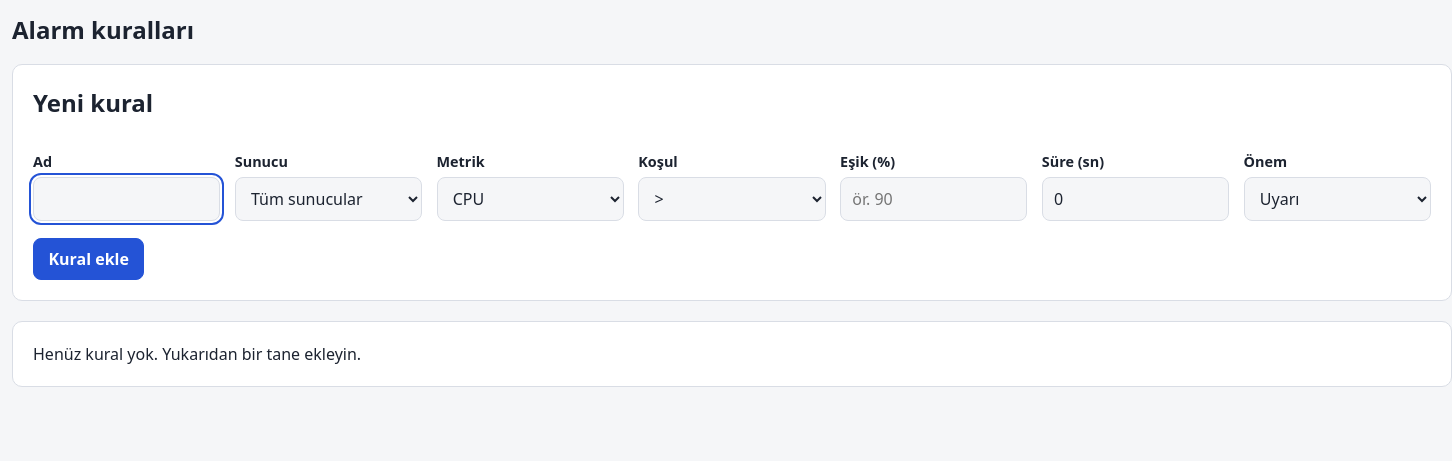
Scenario: RulesPage › form: yalnızca eşik boş bırakılırsa (diğer alanlar dolu) hata görünür ve İSTEK GÖNDERİLMEZ; tablo "Henüz kural yok" kalır (bildirilen sessiz başarısızlık senary
Check: the text "Henüz kural yok. Yukarıdan bir tane ekleyin." is shown, box [12,321,1451,387]
Step 1. Type "Test alarmı" into the field labelled "Ad" → (127, 199), box [33,177,220,220]
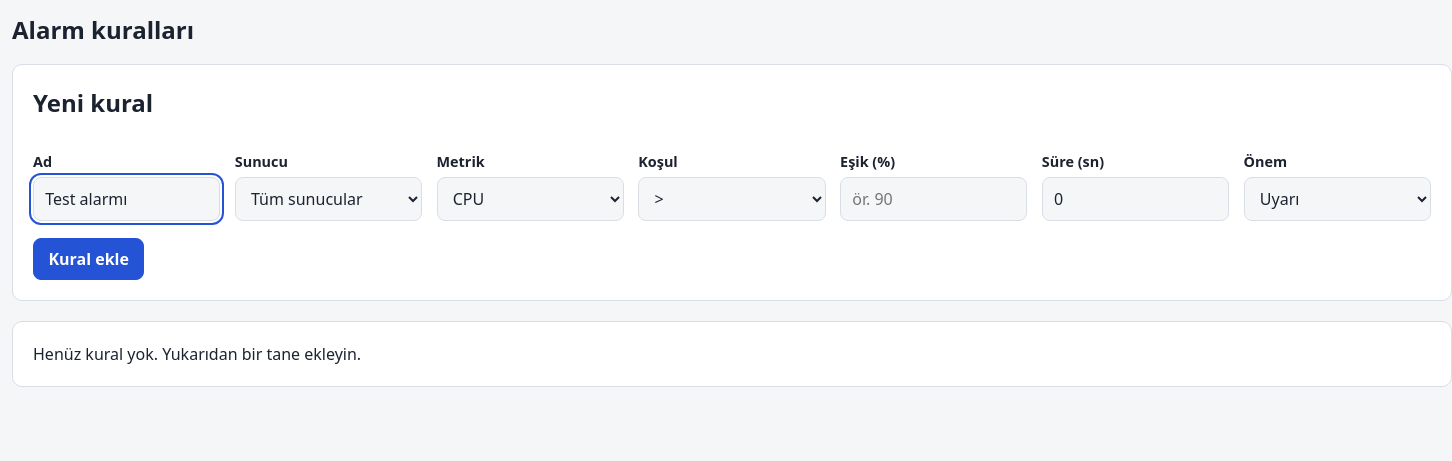
Step 2. Select "web-01" in the dropdown labelled "Sunucu" → (328, 199), box [235,177,422,220]
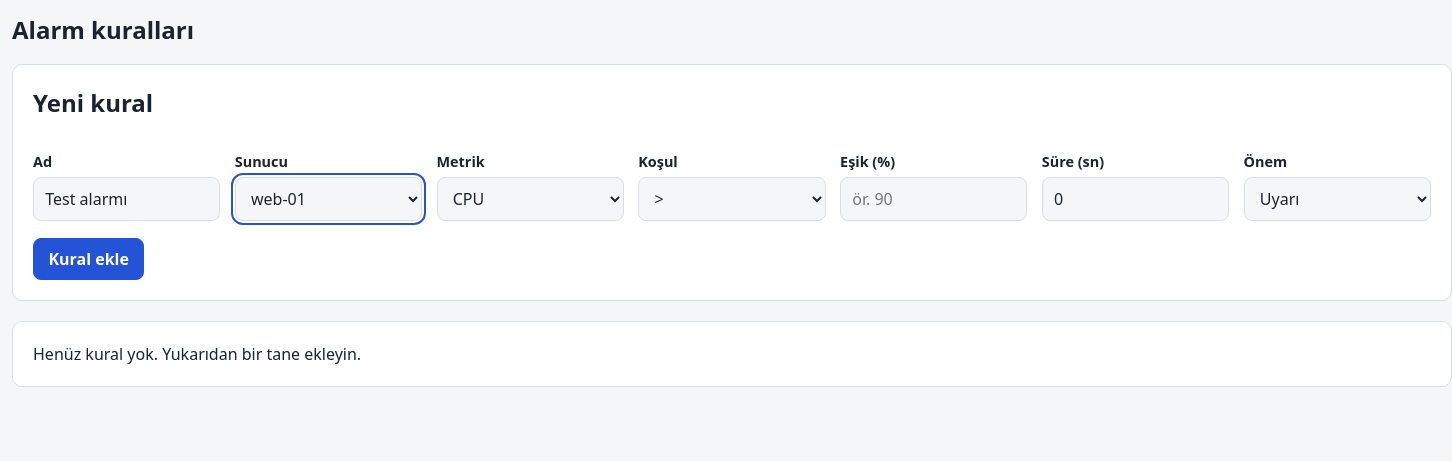
The threshold is DELIBERATELY left empty (default '') — the exact scenario a user reported.
Step 3. Click the button "Kural ekle" → click(89, 259), box [33,238,144,280]
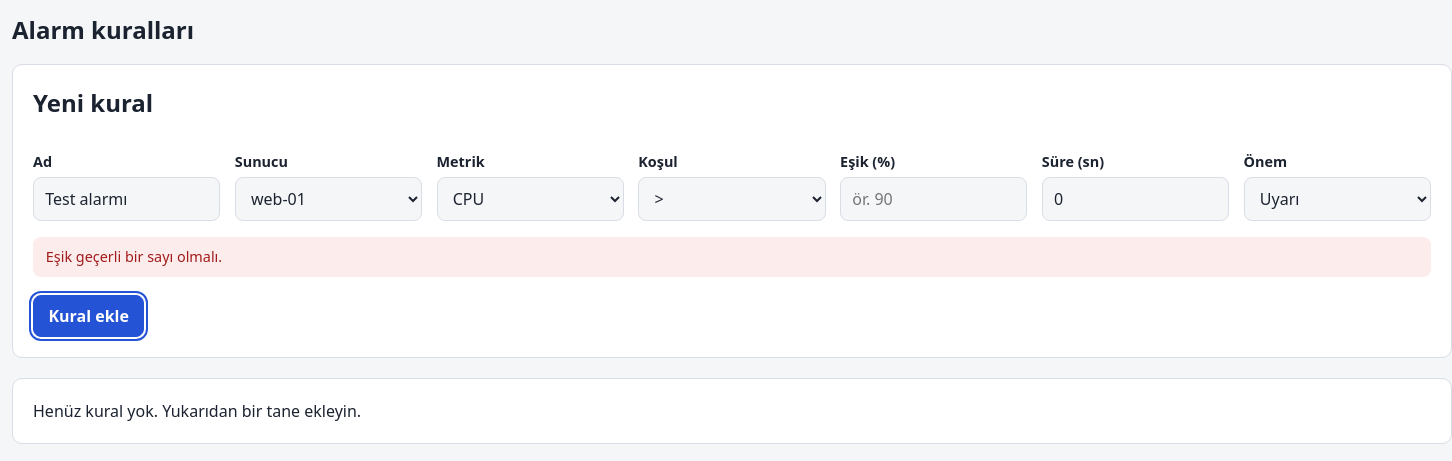
Check: the text "Henüz kural yok. Yukarıdan bir tane ekleyin." is shown, box [12,378,1451,444]
Check: the message reads "Eşik geçerli bir sayı olmalı.", box [46,247,222,266]
